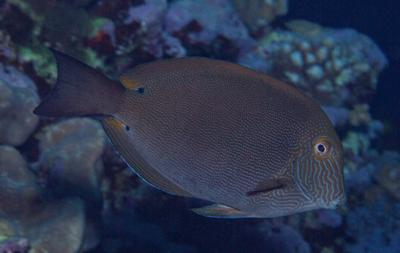Acanthuridae -Surgeonfishes-: (31, 45, 349, 219)
